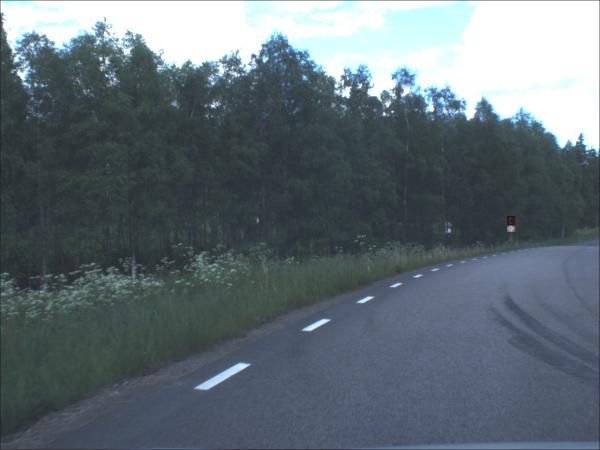80_SIGN: (507, 217, 516, 227)
PRIORITY_ROAD: (507, 227, 516, 234)
